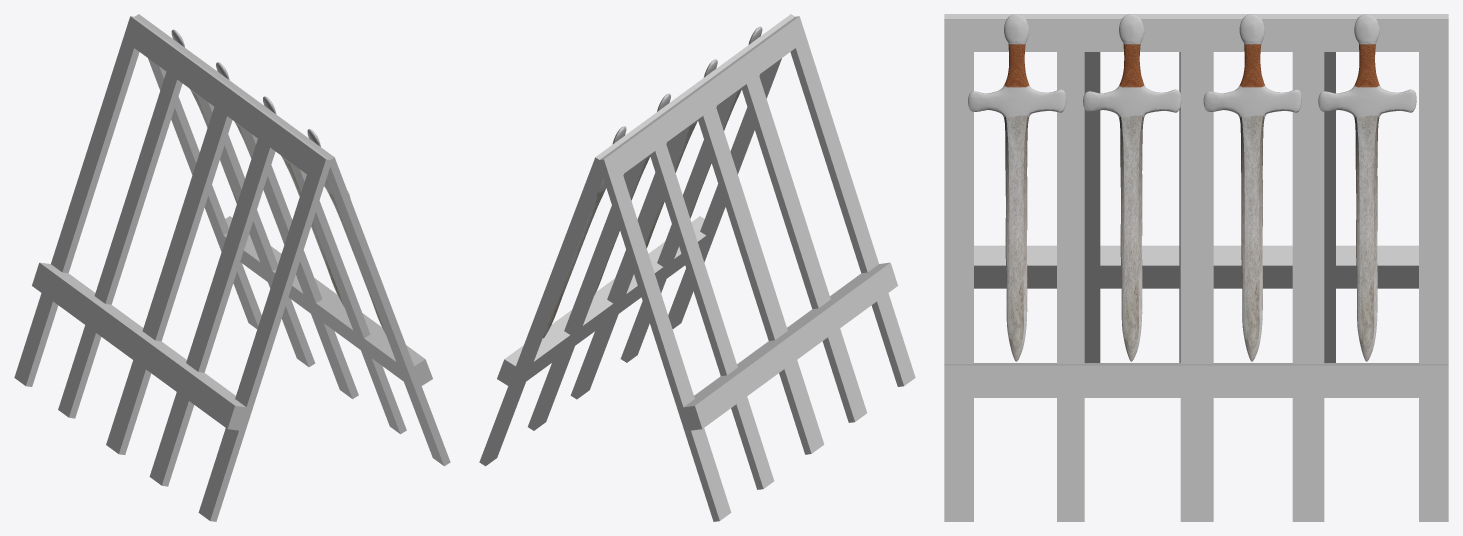
Rendered from sword_rack_1.fbx.
The picture shows the model from 3 angles, left to right: view 1: azimuth 30°, elevation 25°; view 2: azimuth 150°, elevation 25°; view 3: azimuth 270°, elevation 25°; orthographic projection. The views are drawn at different scales.
Visible parts, largest first — view 1: RackVert, RackVert.001, Sword.002, Sword.003; view 2: RackVert, RackVert.001, Sword.001, Sword.002; view 3: RackVert.001, RackVert, Sword.002, Sword.003, Sword.001, Sword.
Boxes of the visible parts, x1=… form: RackVert: x1=14, y1=16, x2=330, y2=521; RackVert.001: x1=135, y1=14, x2=450, y2=466; Sword.002: x1=263, y1=96, x2=344, y2=306; Sword.003: x1=307, y1=129, x2=385, y2=333; RackVert: x1=597, y1=16, x2=915, y2=521; RackVert.001: x1=479, y1=14, x2=794, y2=466; Sword.001: x1=543, y1=126, x2=626, y2=338; Sword.002: x1=645, y1=59, x2=717, y2=248; RackVert.001: x1=944, y1=19, x2=1448, y2=521; RackVert: x1=944, y1=14, x2=1448, y2=362; Sword.002: x1=1083, y1=14, x2=1181, y2=361; Sword.003: x1=968, y1=14, x2=1066, y2=361; Sword.001: x1=1318, y1=14, x2=1416, y2=361; Sword: x1=1203, y1=14, x2=1301, y2=361.
Size of the model in its own units: 142 by 193 by 200.
